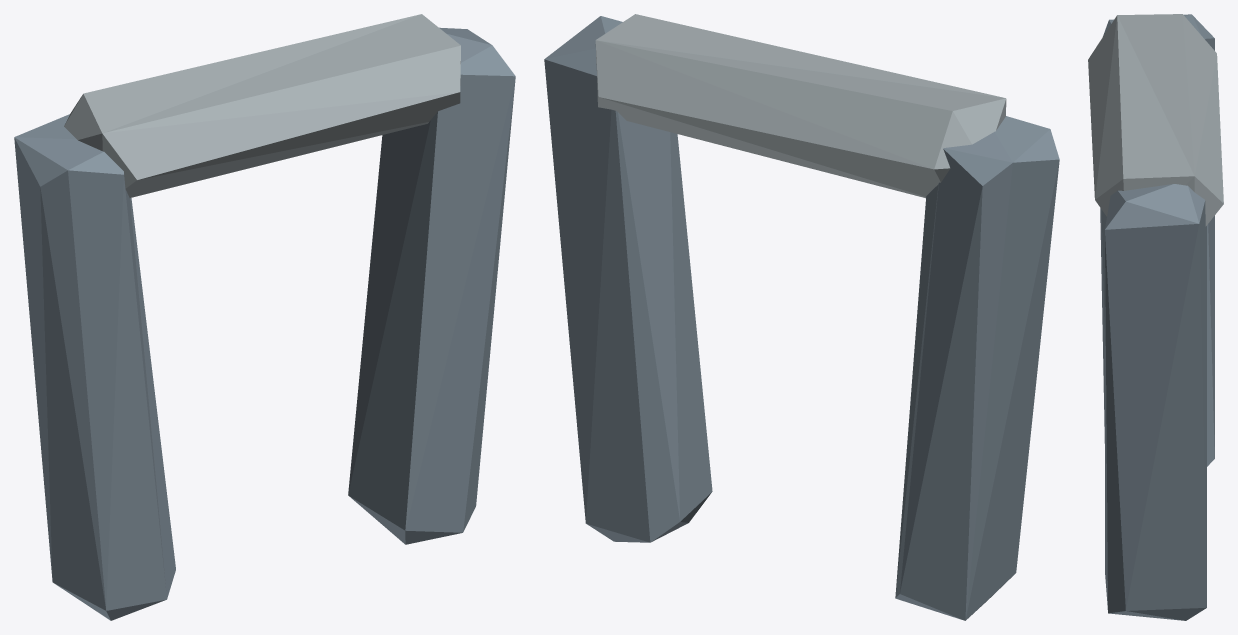
File: Landmark_02_LOD1.fbx
3 views of the same model, side by side, from view 1: azimuth 30°, elevation 25°; view 2: azimuth 150°, elevation 25°; view 3: azimuth 270°, elevation 25° (orthographic). The views are drawn at different scales.
Visible parts, largest first — view 1: Landmark_02_LOD1; view 2: Landmark_02_LOD1; view 3: Landmark_02_LOD1.
Part boxes in pixels (x1,y1,x2,y2): Landmark_02_LOD1: [14, 14, 515, 620]; Landmark_02_LOD1: [544, 14, 1059, 620]; Landmark_02_LOD1: [1088, 14, 1223, 620].
Bounding box in the file's own units: 343 × 353 × 94.67.
